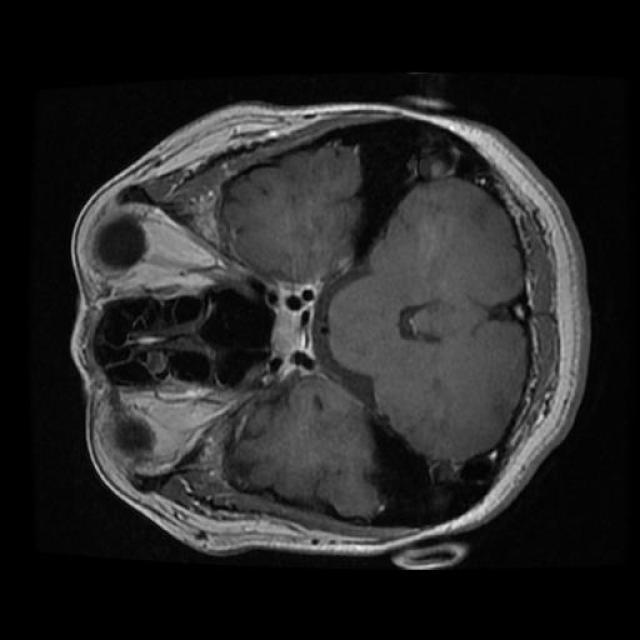Pituitary: (265, 282, 321, 376)
